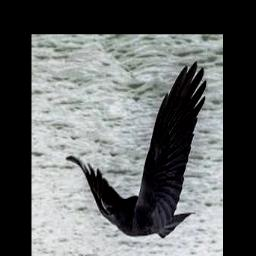Crow: (65, 62, 207, 241)
